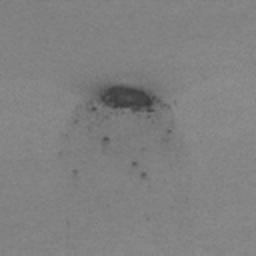Iron sheet ash: (95, 84, 164, 118)
